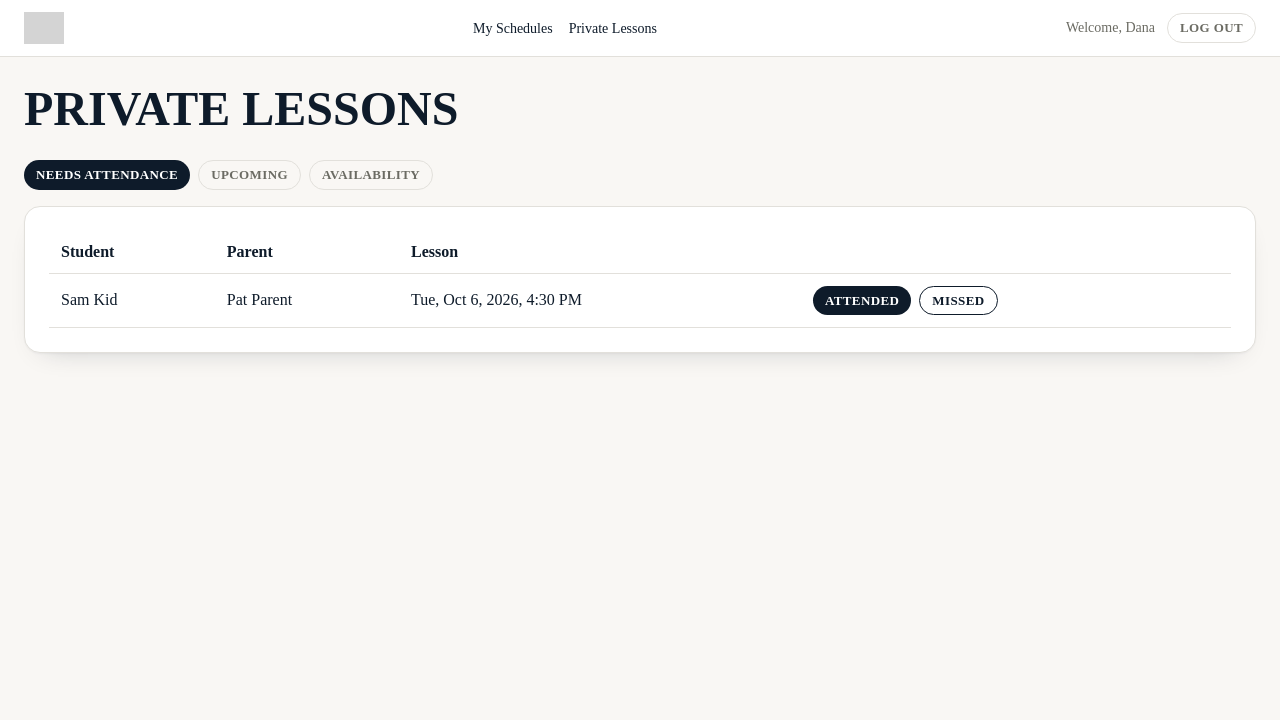
CoachPrivateLessonsPage › shows the server error inline in the dialog without crashing
Step 1. Click the button "Missed" → coordinates (958, 300), box [919,286,998,315]
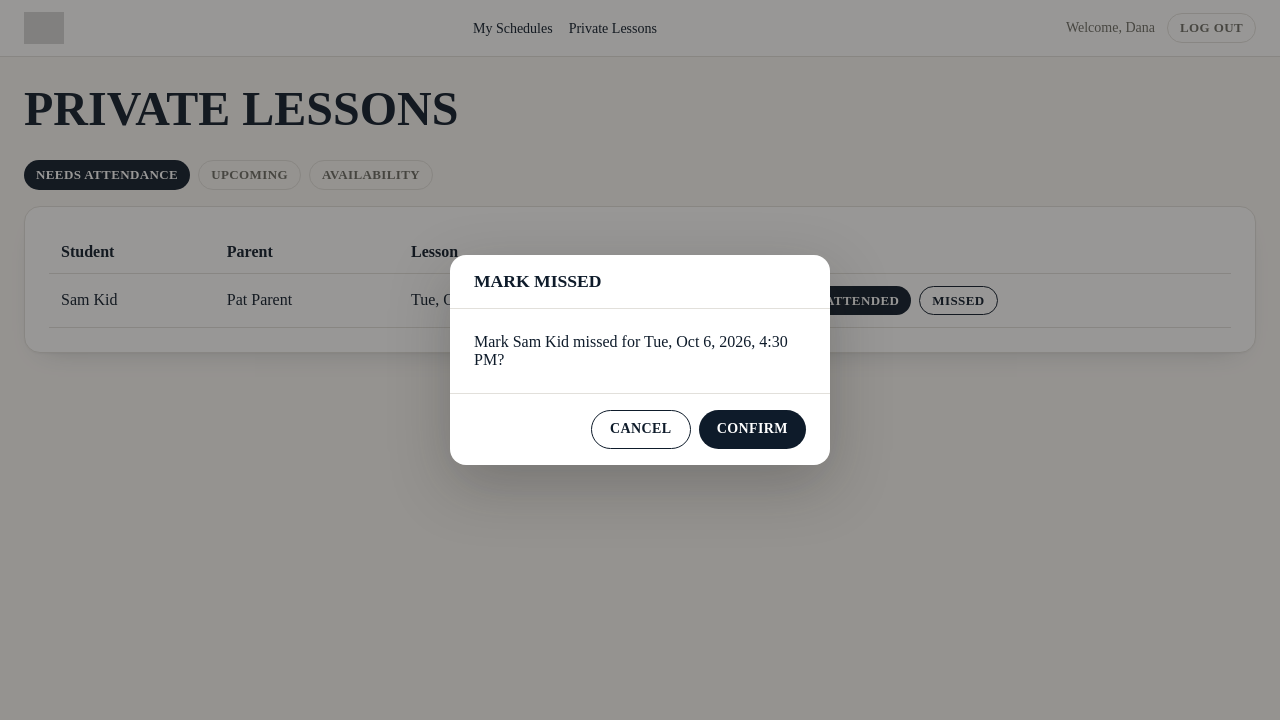
Step 2. Click the button "Confirm" → coordinates (752, 430), box [699,410,806,449]
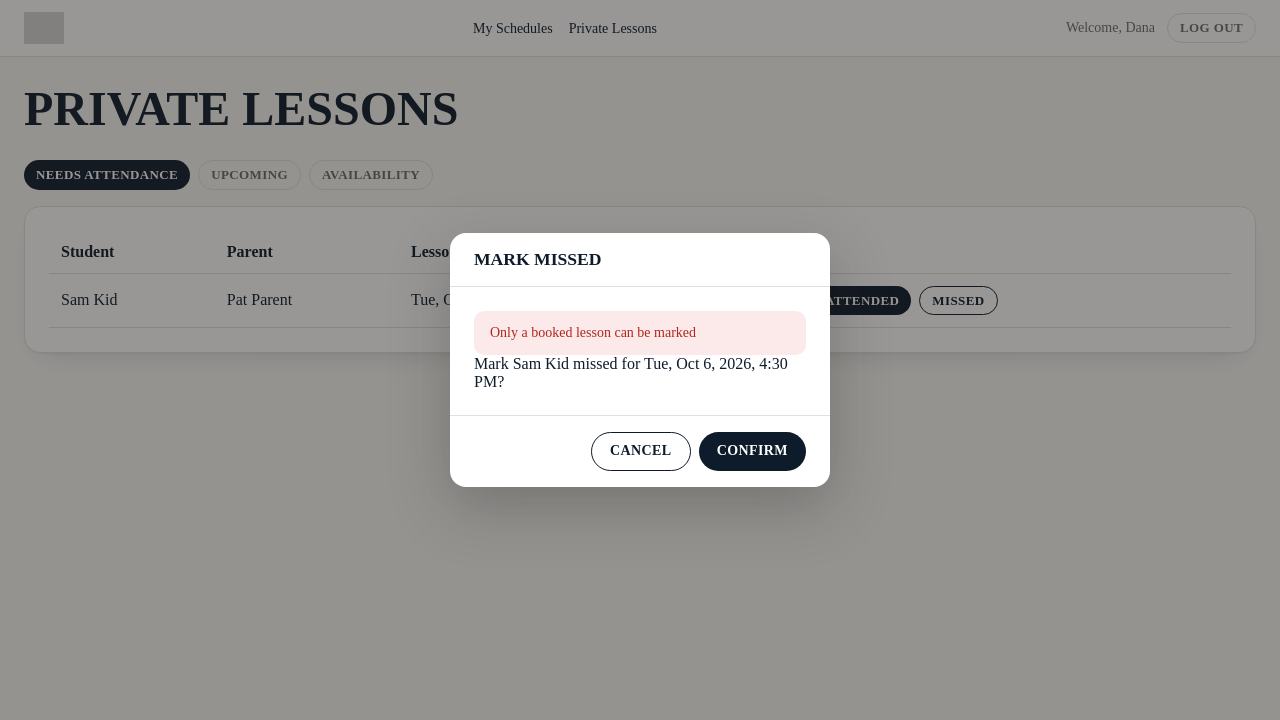
Result: the text "Only a booked lesson can be marked" is shown at [474,311,806,355]
